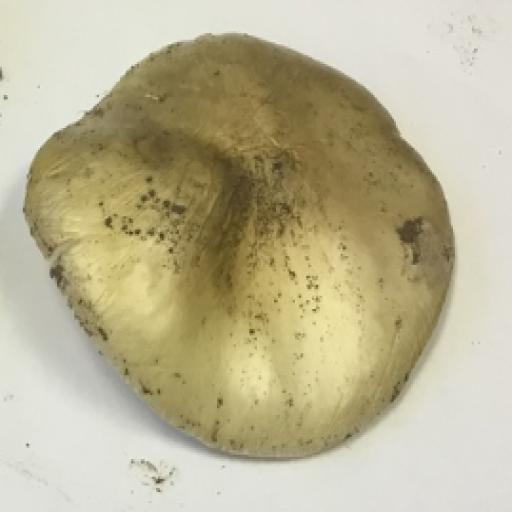mushroom: (30, 20, 460, 464)
